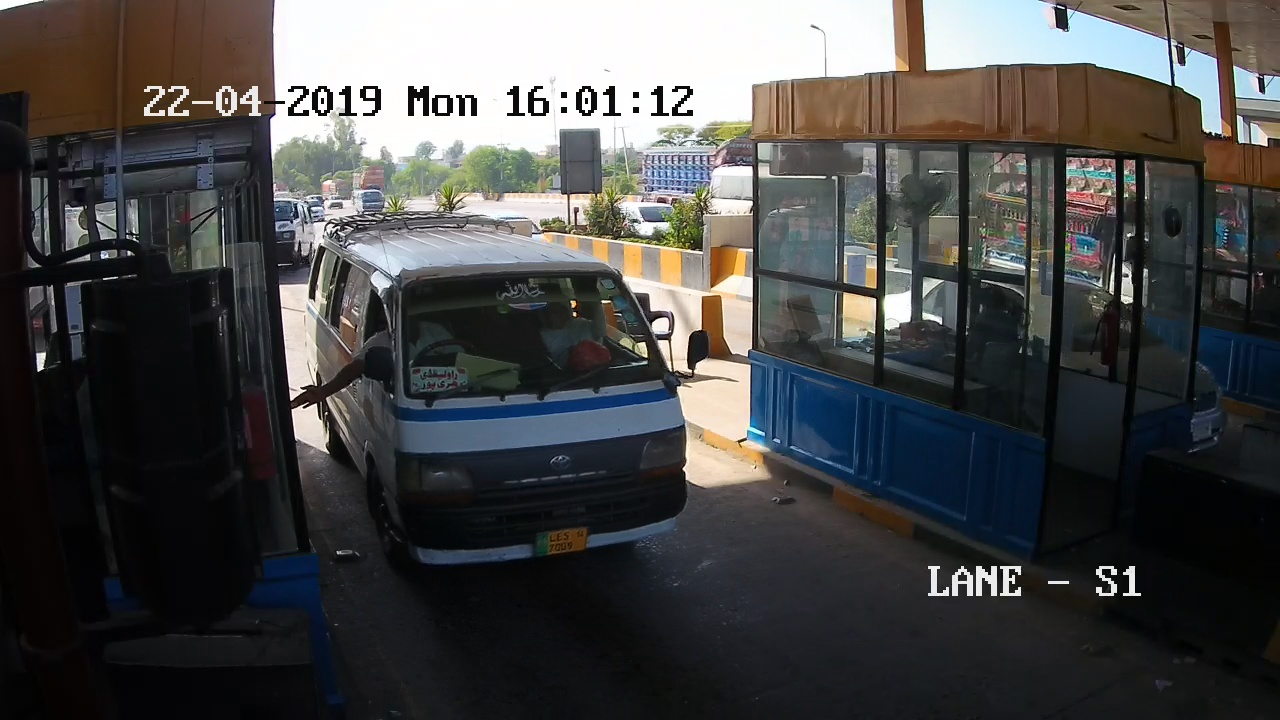car: (295, 213, 725, 661)
